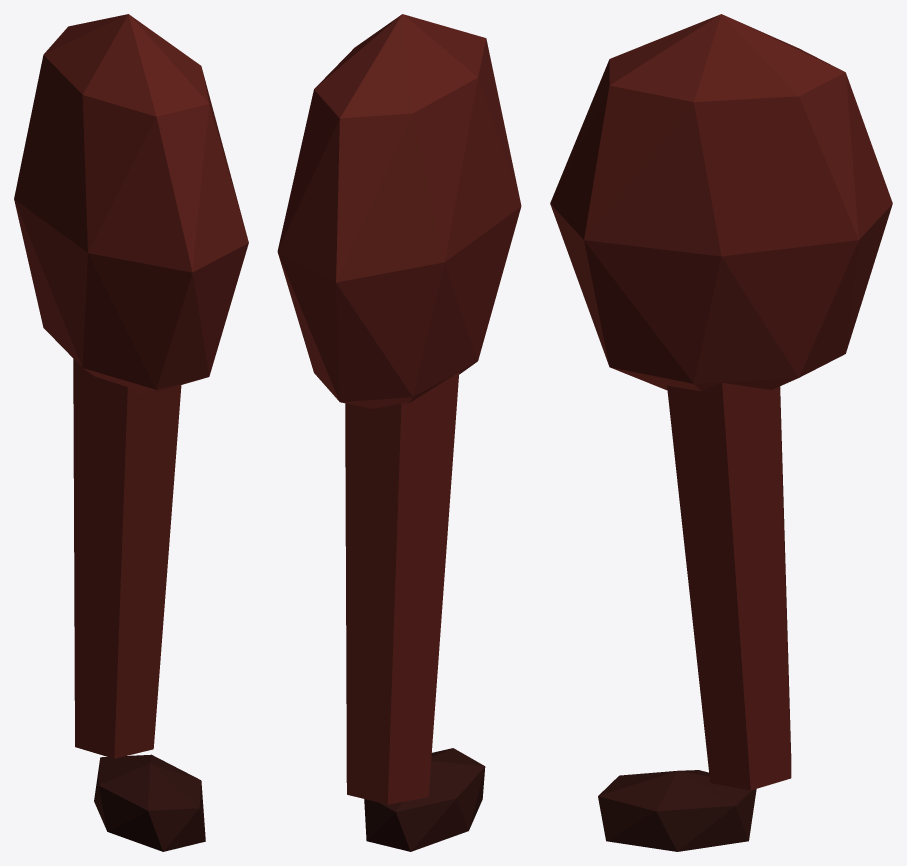
File: wolf_3_leg_br.glb
3 views of the same model, side by side, from view 1: azimuth 30°, elevation 25°; view 2: azimuth 150°, elevation 25°; view 3: azimuth 270°, elevation 25° (orthographic). The views are drawn at different scales.
Parts seen in each view (by area): view 1: wolf_3_leg_br; view 2: wolf_3_leg_br; view 3: wolf_3_leg_br.
Part boxes in pixels (x1,y1,x2,y2): wolf_3_leg_br: (14, 14, 248, 851); wolf_3_leg_br: (277, 14, 521, 851); wolf_3_leg_br: (550, 14, 892, 851).
Size of the model in its own units: 0.1331 by 0.63 by 0.234.
